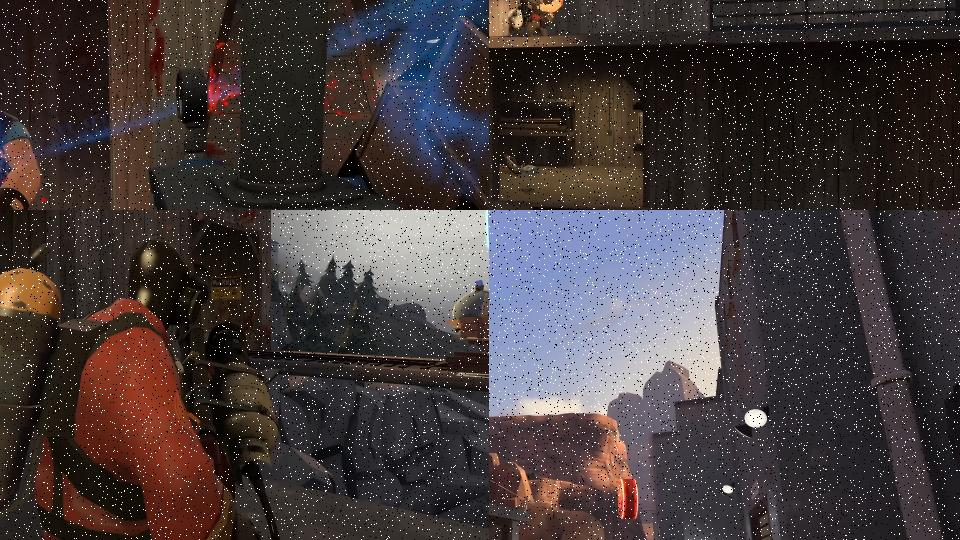Enemy: (0, 227, 284, 540), (507, 0, 564, 37), (501, 154, 525, 176)
